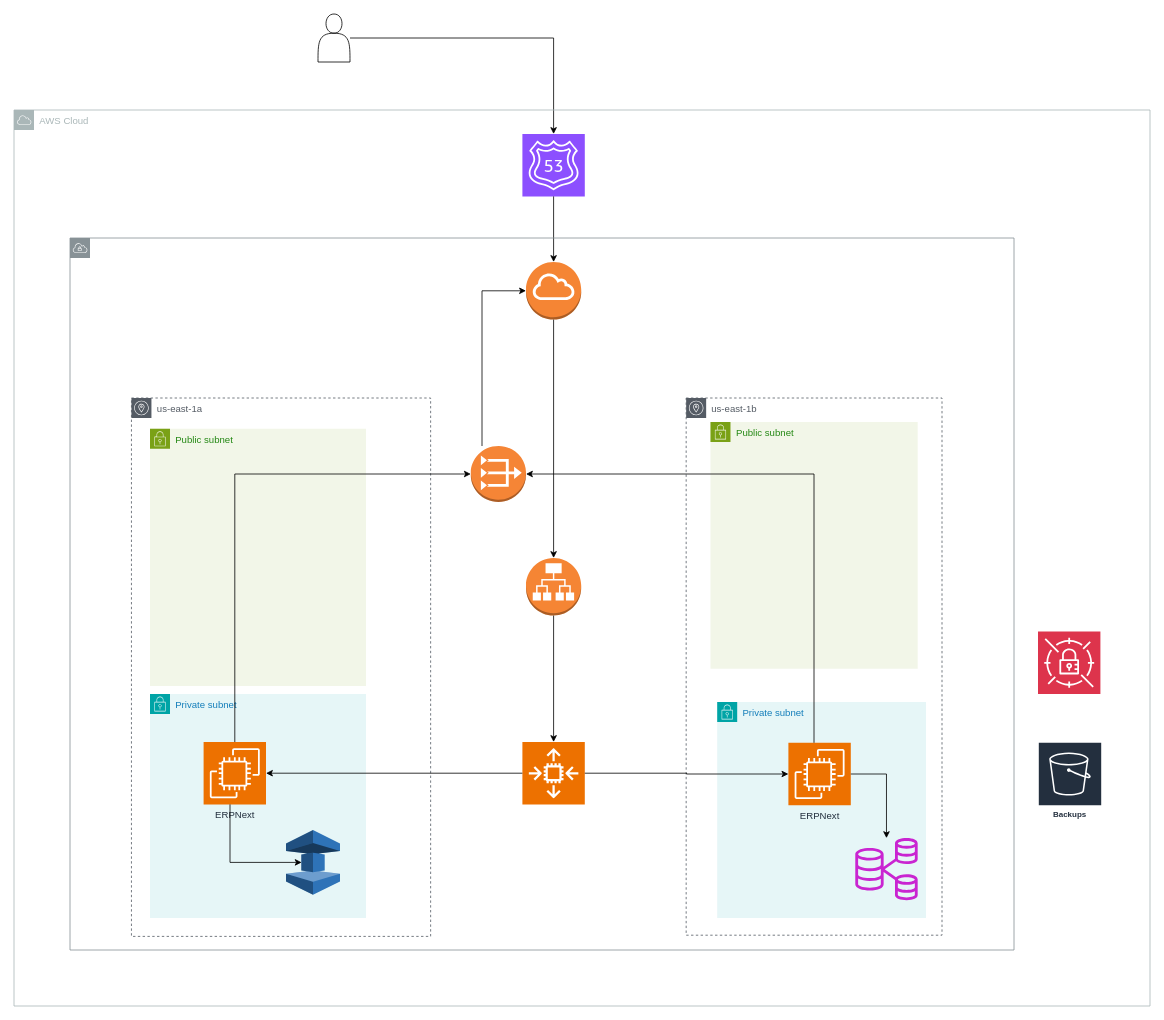
This 1164x1020 diagram has some shape labels left out. The shapes that lost their labels are listed below. From the top down, each one's box as (x1, y1, x2, y2) in pixels, then its label:
(69, 237, 1014, 950): VPC
(1037, 631, 1100, 694): Passwords
(522, 741, 585, 804): ASG min 2
(285, 829, 340, 895): Cache
(855, 838, 917, 900): RDS MariaDB Multi AZ
